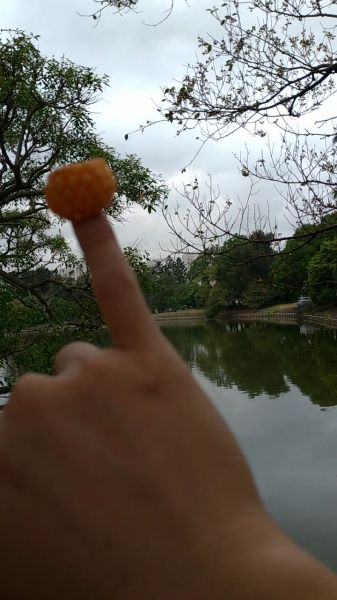eggs: (44, 159, 117, 219)
